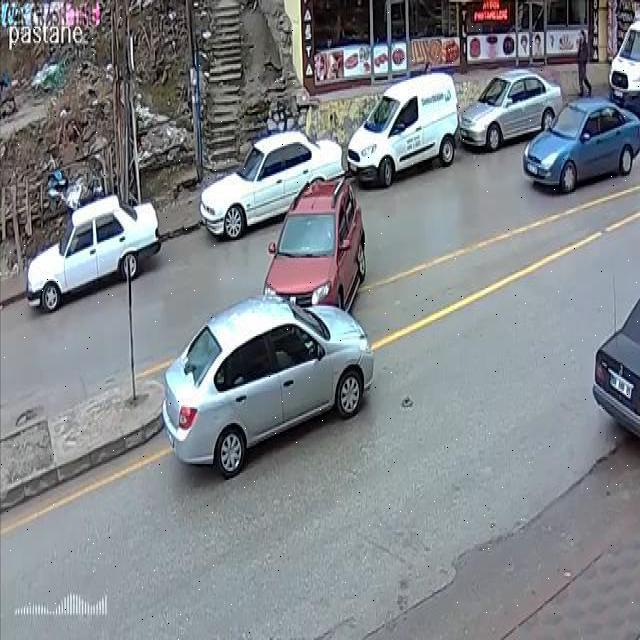moderate: (157, 169, 376, 480)
